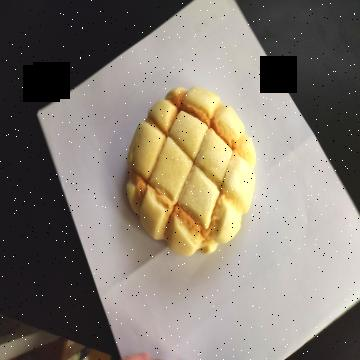melon_bread: (126, 86, 257, 260)
